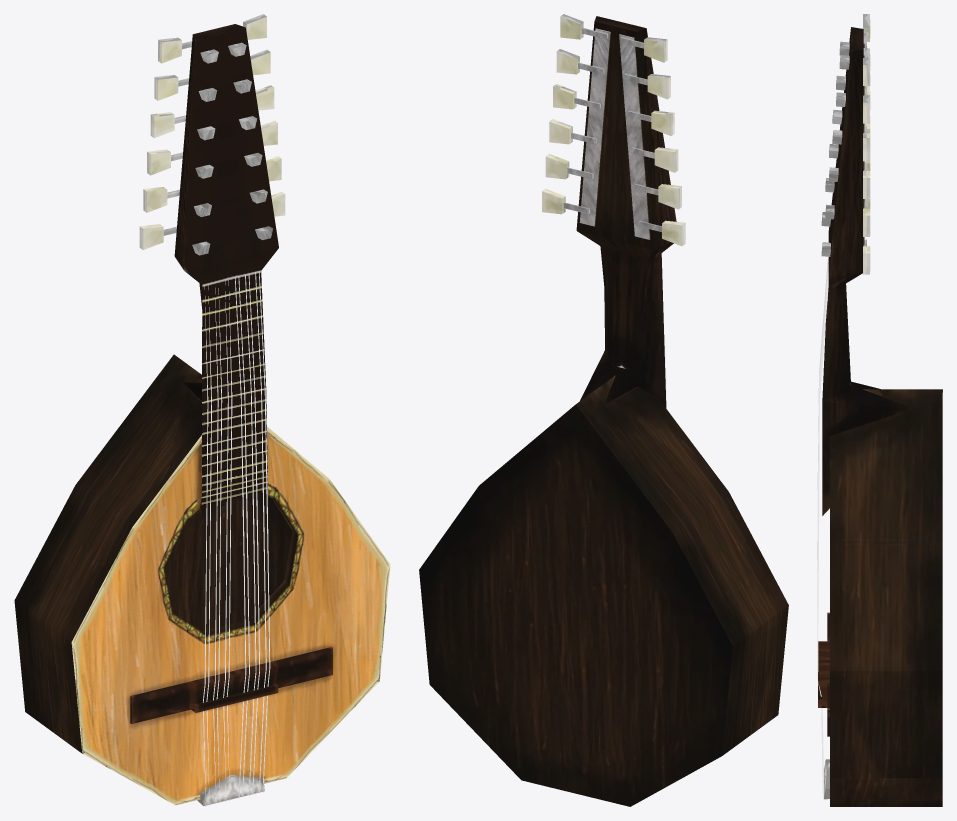
Rendered from colombian_andean_bandola_colombian_instrument.lod1.glb.
3 renders of one model, left to right at view 1: azimuth 30°, elevation 25°; view 2: azimuth 150°, elevation 25°; view 3: azimuth 270°, elevation 25°, orthographic.
Parts seen in each view (by area): view 1: Cylinder.001, Cylinder; view 2: Cylinder.001; view 3: Cylinder.001, Cylinder.
Part boxes in pixels (<box>): Cylinder.001: <box>14,14,390,805</box>; Cylinder: <box>203,271,270,806</box>; Cylinder.001: <box>419,14,788,806</box>; Cylinder.001: <box>818,14,942,806</box>; Cylinder: <box>817,258,828,799</box>.
Bounding box in the file's own units: 1.97 × 4.46 × 0.6806.
2 materials, 1 textured.
